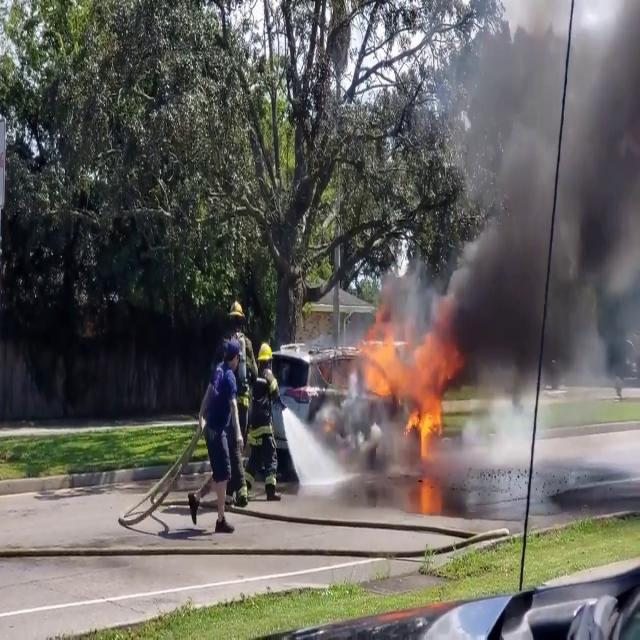Fire: (350, 324, 470, 457)
Smoke: (423, 1, 640, 383)
